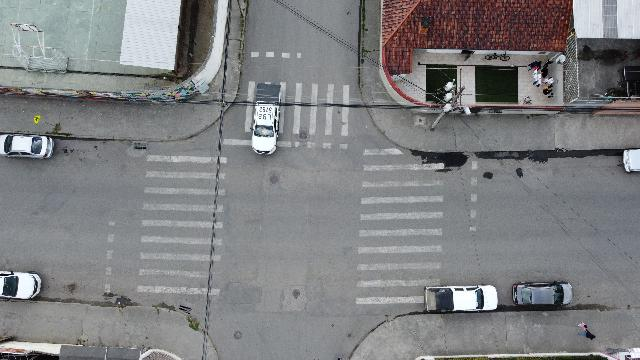Vehiculo: (424, 286, 498, 312), (250, 102, 280, 156), (512, 280, 574, 306), (1, 134, 54, 158), (1, 270, 42, 300)
